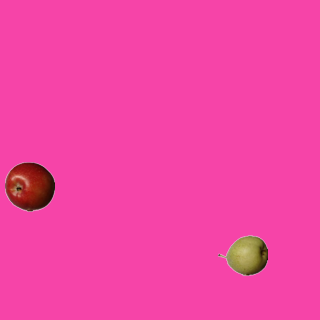Apple Braeburn: (4, 161, 54, 211)
Pear: (217, 230, 267, 280)
